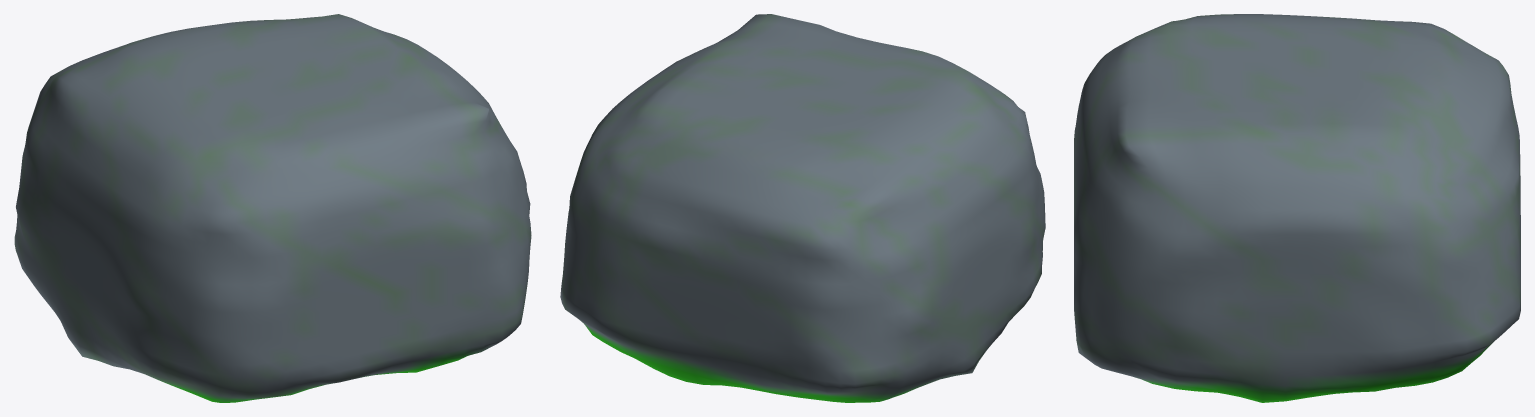
File: cavecube.gltf
3 renders of one model, left to right at view 1: azimuth 30°, elevation 25°; view 2: azimuth 150°, elevation 25°; view 3: azimuth 270°, elevation 25°, orthographic. The views are drawn at different scales.
Parts seen in each view (by area): view 1: Cube; view 2: Cube; view 3: Cube.
Boxes of the visible parts, x1,y1,x2,y2 form: Cube: (14,14,531,402); Cube: (560,14,1045,402); Cube: (1074,14,1520,402).
Size of the model in its own units: 41.49 by 25.47 by 41.49.
